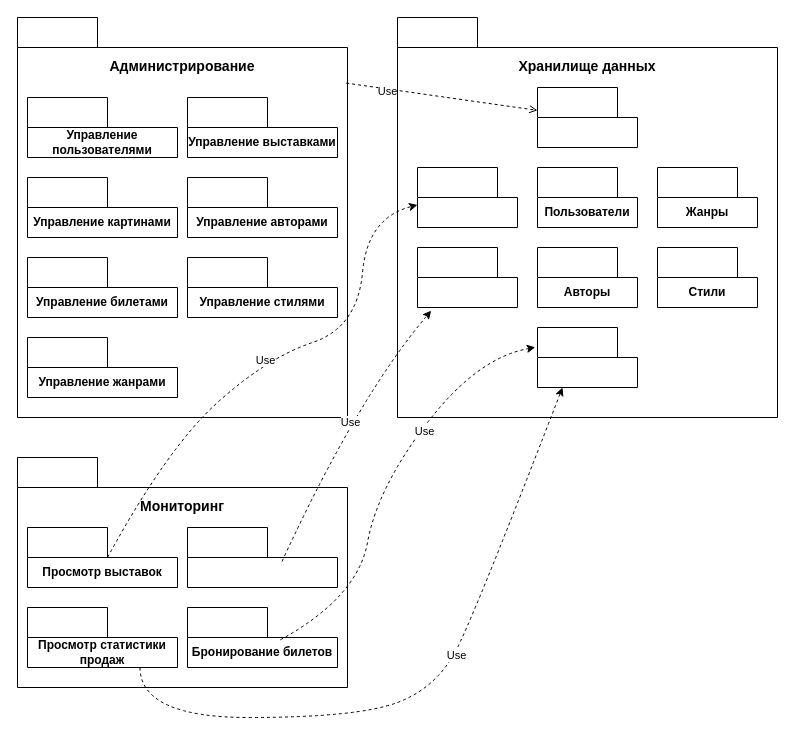
This 795x735 diagram has some shape labels left out. Here are the shapes that lost their labels. From the top down, the centre of each, then its label:
(x=587, y=117): БД "Галерея"
(x=467, y=197): Выставки
(x=467, y=277): Картины
(x=587, y=357): Билеты
(x=262, y=557): Просмотр сведений
